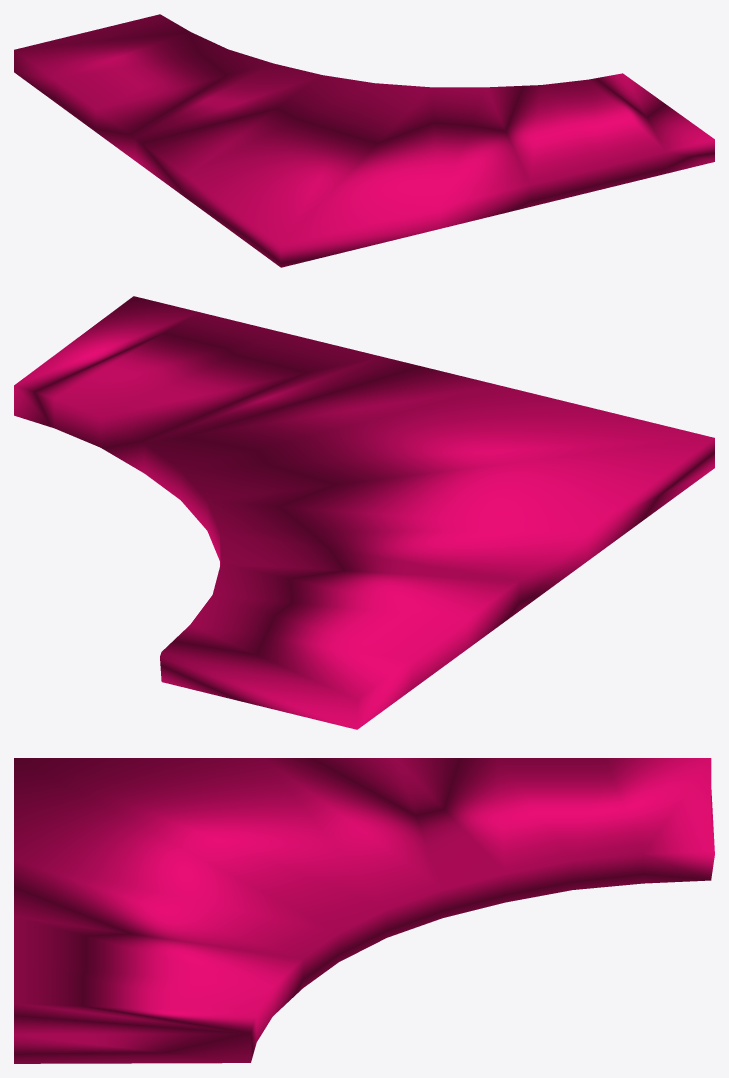
File: Board_Turn_90_03A.fbx
3 views of the same model, one above another, from view 1: azimuth 30°, elevation 25°; view 2: azimuth 150°, elevation 25°; view 3: azimuth 270°, elevation 25° (orthographic). The views are drawn at different scales.
Parts seen in each view (by area): view 1: Board_Turn_90_03A; view 2: Board_Turn_90_03A; view 3: Board_Turn_90_03A.
Part boxes in pixels (x1,y1,x2,y2): Board_Turn_90_03A: [14, 14, 714, 267]; Board_Turn_90_03A: [14, 296, 714, 729]; Board_Turn_90_03A: [14, 758, 714, 1063].
Bounding box in the file's own units: 5.68 × 0.281 × 6.08.
